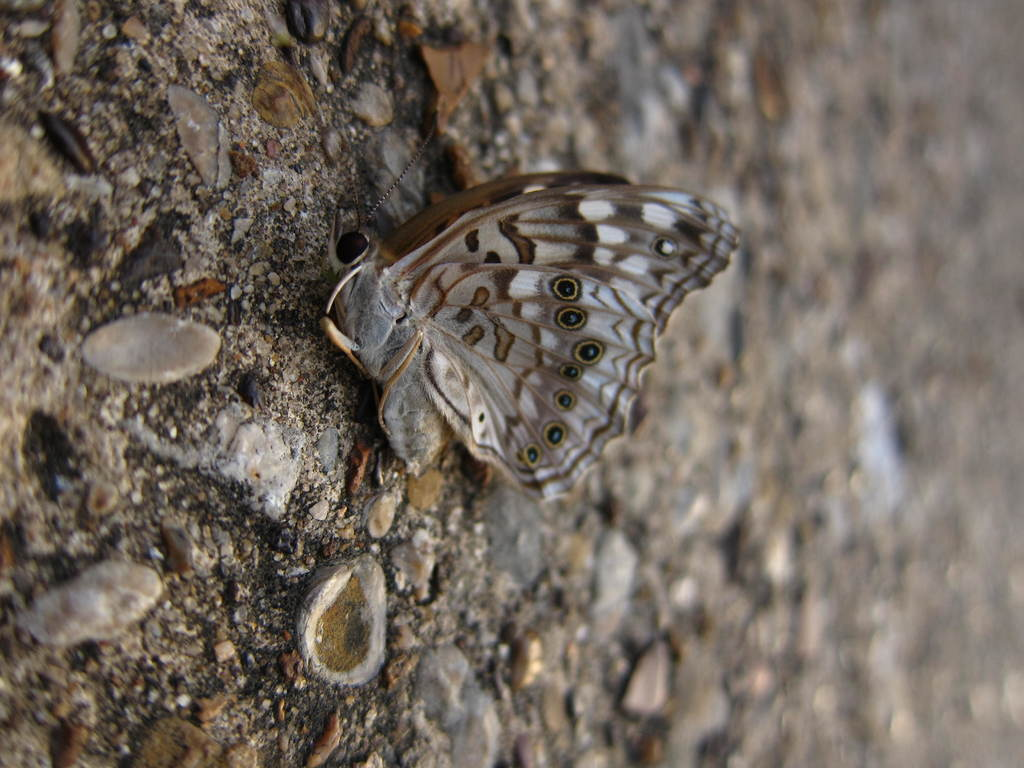Butterfly: (293, 140, 768, 527)
